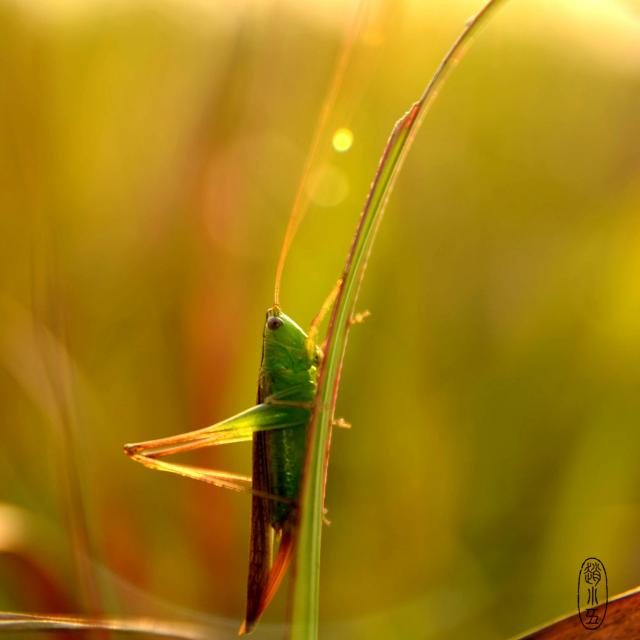ZhaMeng: (147, 280, 341, 616)
